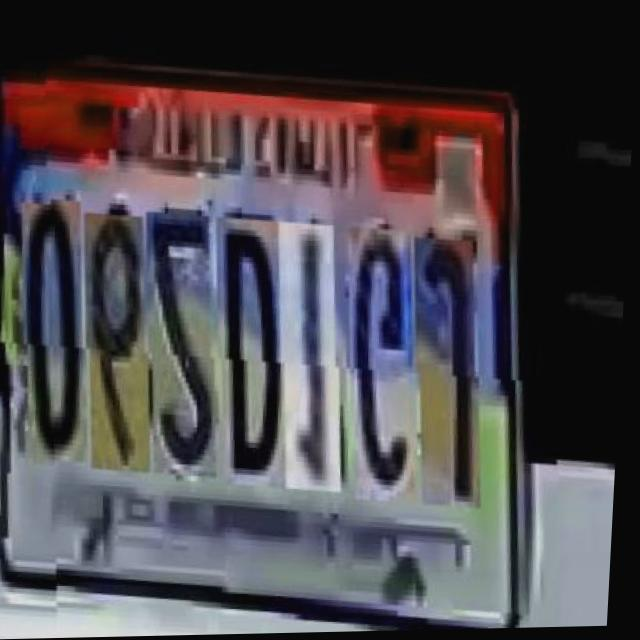1: (281, 215, 362, 488)
2: (148, 207, 236, 475)
6: (87, 209, 170, 471)
d: (218, 211, 306, 484)
g: (350, 219, 439, 497)
j: (416, 229, 501, 502)
o: (23, 195, 107, 463)
